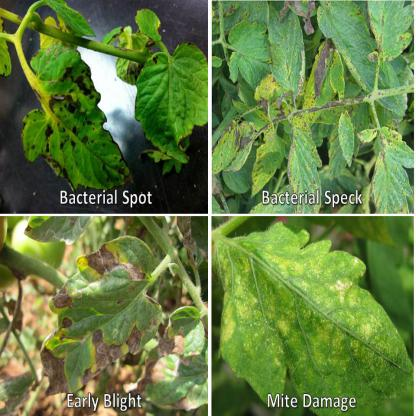Tomato Early blight leaf: (26, 232, 169, 393)
Tomato leaf bacterial spot: (13, 42, 135, 203), (130, 35, 208, 188), (356, 116, 413, 212), (258, 11, 309, 106), (219, 14, 281, 91), (283, 107, 319, 212), (250, 112, 286, 209), (217, 119, 258, 184), (325, 44, 348, 106)
Tomato two spotted spider mites leaf: (216, 232, 407, 405)
